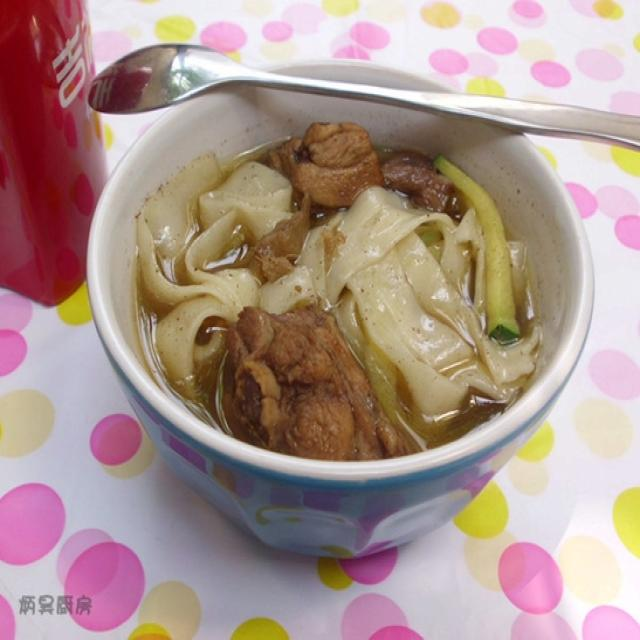面条主食: (78, 48, 588, 557)
